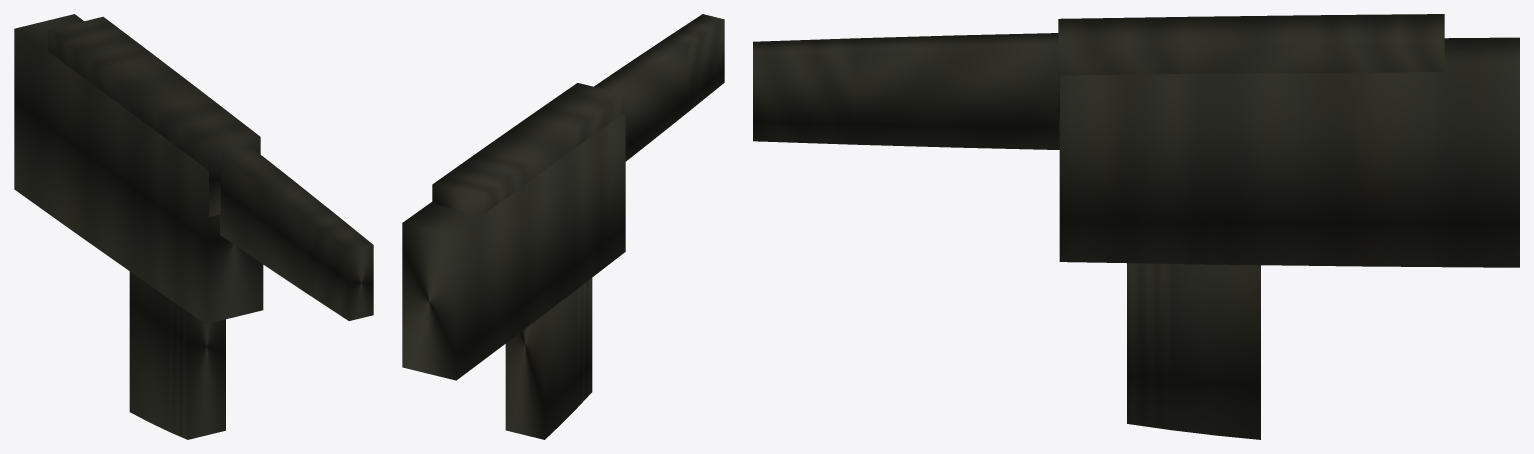
Rendered from wpn_deagle_50ae.glb.
The picture shows the model from 3 angles, left to right: view 1: azimuth 30°, elevation 25°; view 2: azimuth 150°, elevation 25°; view 3: azimuth 270°, elevation 25°; orthographic projection. The views are drawn at different scales.
Parts seen in each view (by area): view 1: SubMesh_0_Receiver, SubMesh_3_BarrelSight, SubMesh_1_Action, SubMesh_2_Magazine; view 2: SubMesh_0_Receiver, SubMesh_1_Action, SubMesh_2_Magazine, SubMesh_3_BarrelSight; view 3: SubMesh_0_Receiver, SubMesh_3_BarrelSight, SubMesh_2_Magazine, SubMesh_1_Action.
Boxes of the visible parts, x1=… form: SubMesh_0_Receiver: x1=14, y1=14, x2=263, y2=323; SubMesh_3_BarrelSight: x1=220, y1=146, x2=373, y2=320; SubMesh_1_Action: x1=47, y1=16, x2=260, y2=216; SubMesh_2_Magazine: x1=129, y1=271, x2=225, y2=439; SubMesh_0_Receiver: x1=402, y1=114, x2=625, y2=380; SubMesh_1_Action: x1=432, y1=83, x2=623, y2=215; SubMesh_2_Magazine: x1=505, y1=278, x2=592, y2=439; SubMesh_3_BarrelSight: x1=594, y1=14, x2=724, y2=161; SubMesh_0_Receiver: x1=1059, y1=37, x2=1519, y2=267; SubMesh_3_BarrelSight: x1=753, y1=33, x2=1059, y2=149; SubMesh_2_Magazine: x1=1127, y1=263, x2=1260, y2=439; SubMesh_1_Action: x1=1058, y1=14, x2=1444, y2=130.
Size of the model in its own units: 0.044 by 0.2284 by 0.4.
Materials: 1 (1 with a texture image).
